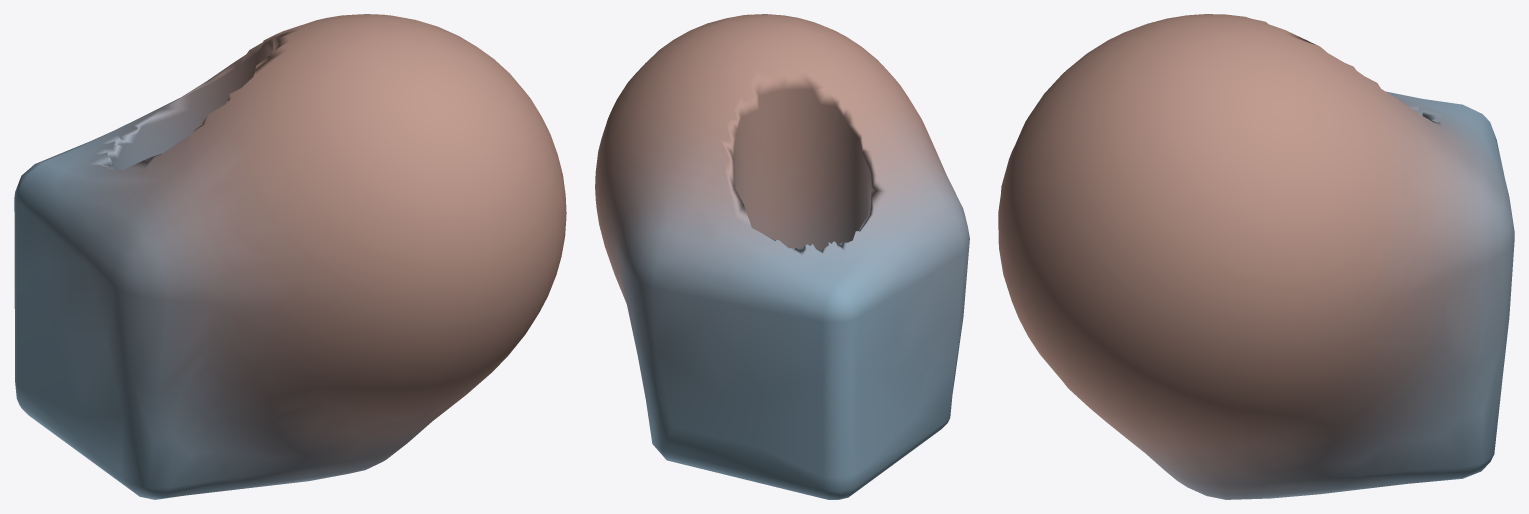
3 renders of one model, left to right at view 1: azimuth 30°, elevation 25°; view 2: azimuth 150°, elevation 25°; view 3: azimuth 270°, elevation 25°, orthographic. The views are drawn at different scales.
Bounding box in the file's own units: 2.07 × 2.07 × 2.07.
